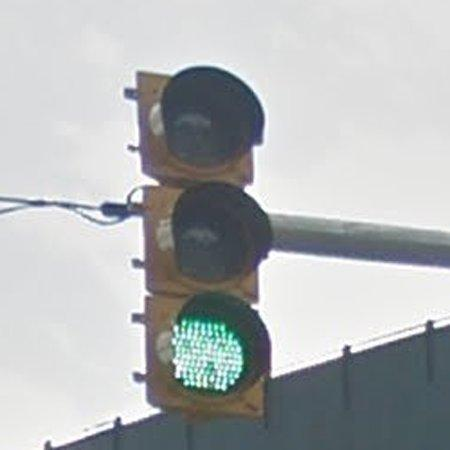traffic lights: (139, 67, 274, 418)
